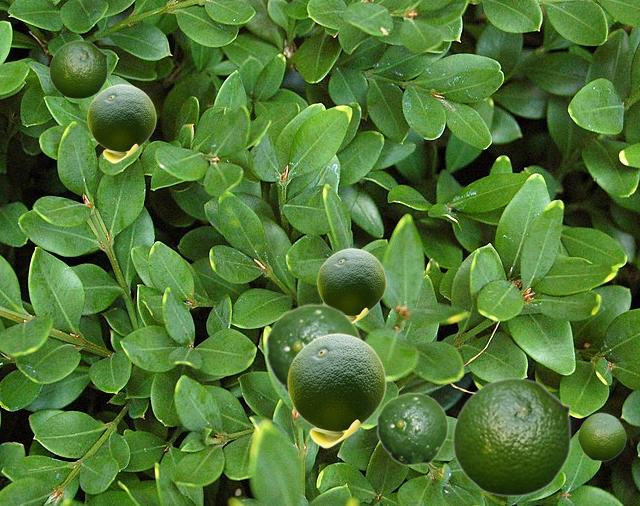calamansi: (452, 377, 571, 496), (287, 333, 385, 447), (265, 303, 362, 395), (87, 84, 155, 162), (376, 392, 448, 465), (317, 248, 385, 322), (49, 40, 107, 98), (577, 412, 625, 460)
